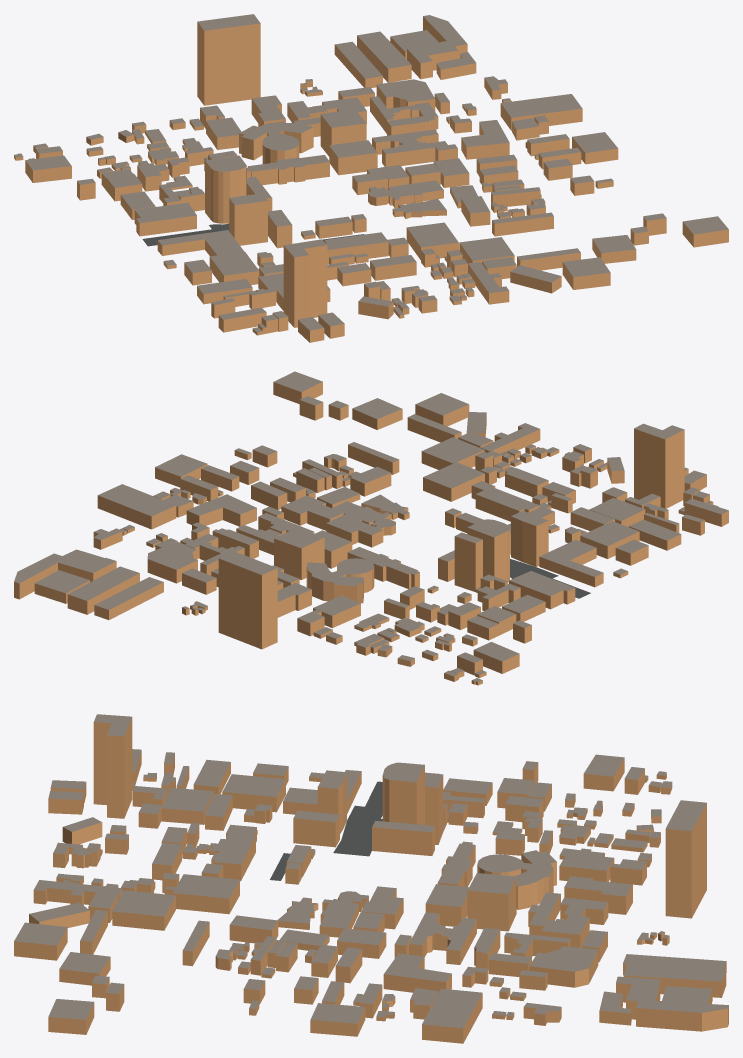
File: maptest.glb
The picture shows the model from 3 angles, top to bottom: view 1: azimuth 30°, elevation 25°; view 2: azimuth 150°, elevation 25°; view 3: azimuth 270°, elevation 25°; orthographic projection. The views are drawn at different scales.
Parts seen in each view (by area): view 1: map_5.osm_buildings; view 2: map_5.osm_buildings, map_5.osm_areas_pedestrian; view 3: map_5.osm_buildings, map_5.osm_areas_pedestrian.
Boxes of the visible parts, x1,y1,x2,y2 form: map_5.osm_buildings: (14,14,728,342); map_5.osm_buildings: (14,371,728,685); map_5.osm_areas_pedestrian: (510,559,590,598); map_5.osm_buildings: (14,714,728,1043); map_5.osm_areas_pedestrian: (270,781,382,880).
Bounding box in the file's own units: 680 × 98.96 × 734.
